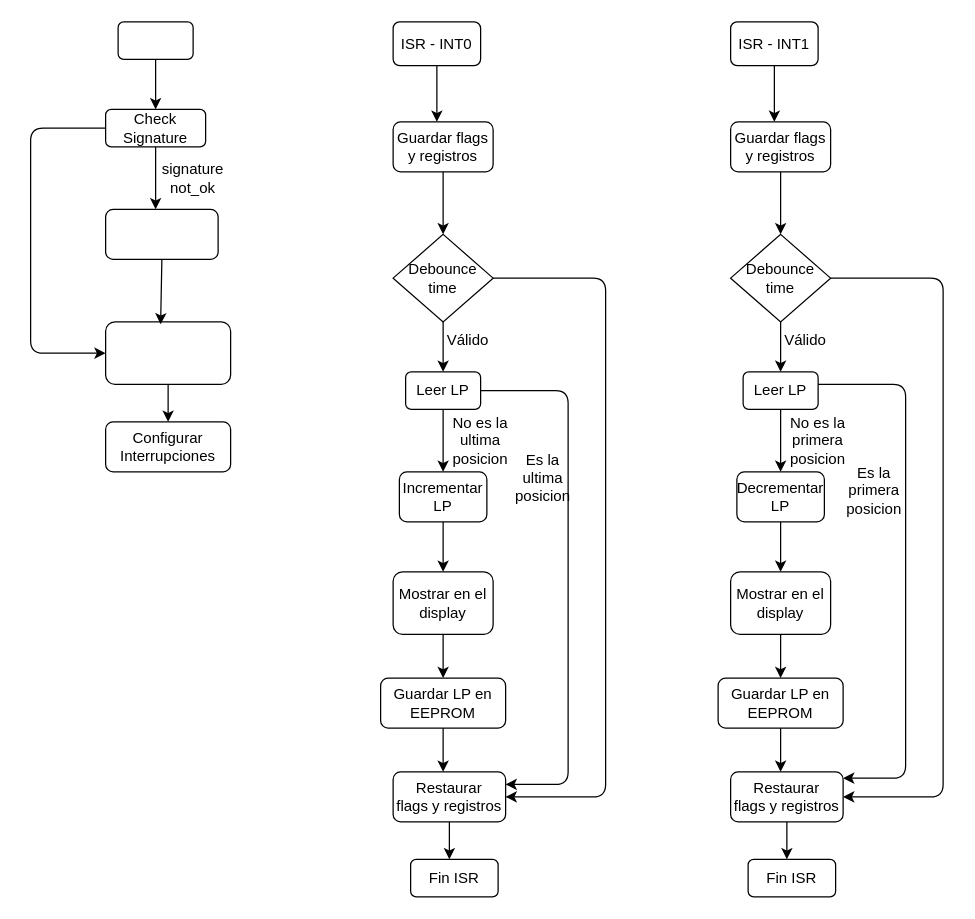
Image size: 975x919. Some labels were removed from this diagram. The centre of each missing label's shape, as x and y in pixels:
"Cargar la tabla en EEPROM" goes at [161,233].
"Configurar puertos" goes at [167,352].
"Inicio" goes at [155,40].
